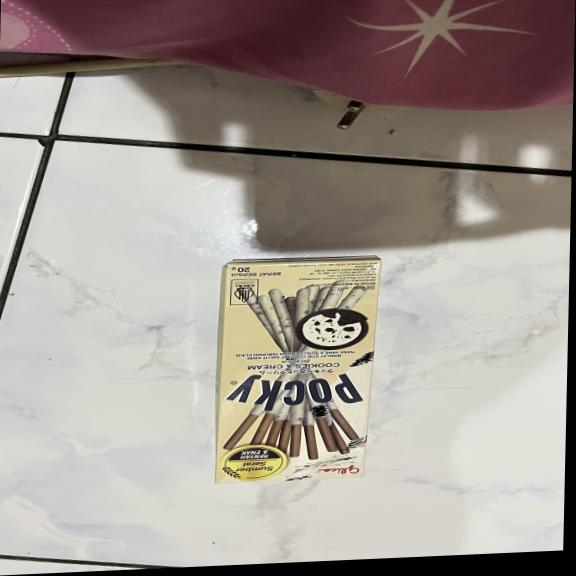Kertas: (208, 257, 383, 486)
